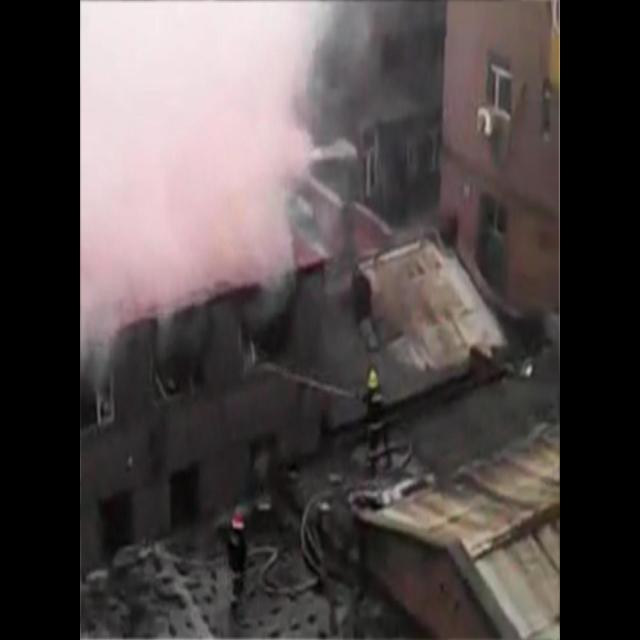Smoke: (80, 1, 358, 386)
